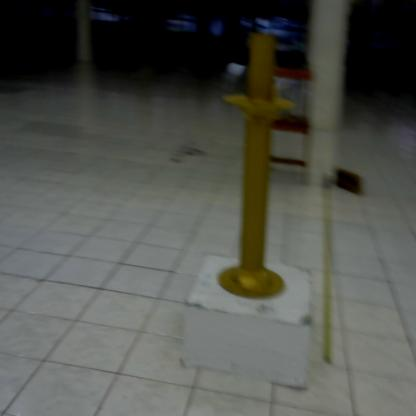pole: (218, 34, 291, 301)
